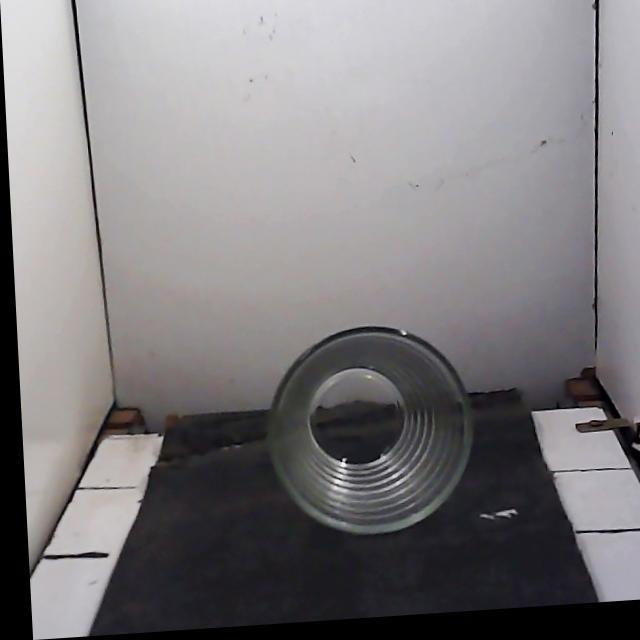vidro: (267, 327, 473, 534)
